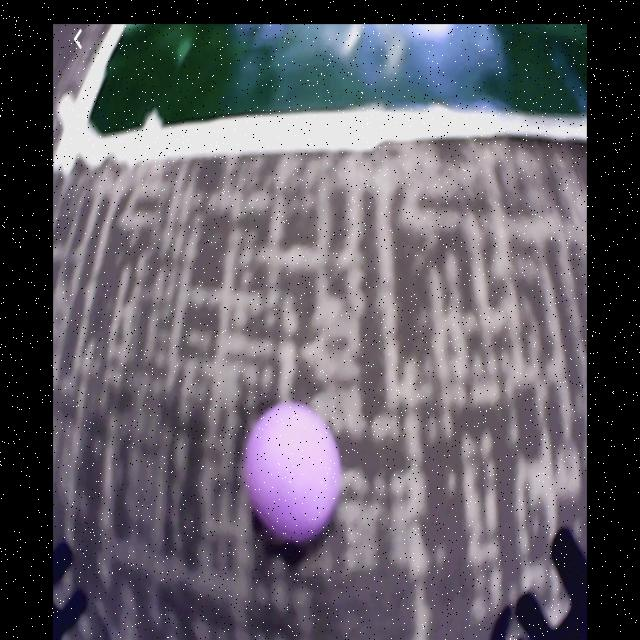ball: (246, 405, 344, 545)
